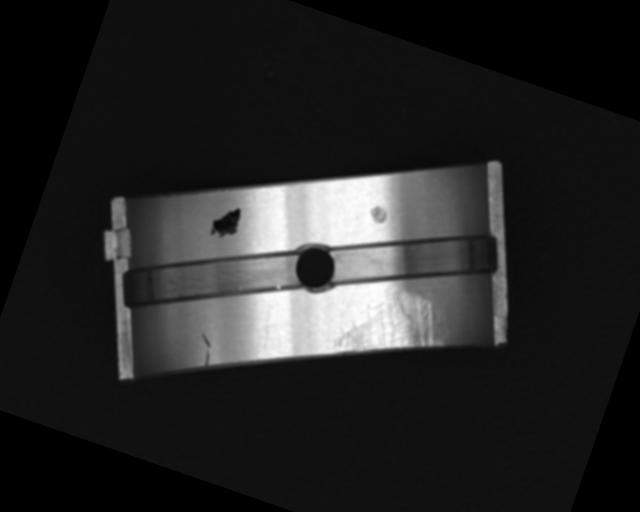blot: (206, 201, 245, 245)
bruise: (367, 203, 390, 227)
gap: (115, 199, 306, 353), (320, 186, 507, 331)
hole: (284, 237, 342, 299)
nick: (255, 310, 280, 350), (191, 333, 217, 369)
scratch: (329, 272, 459, 387)
